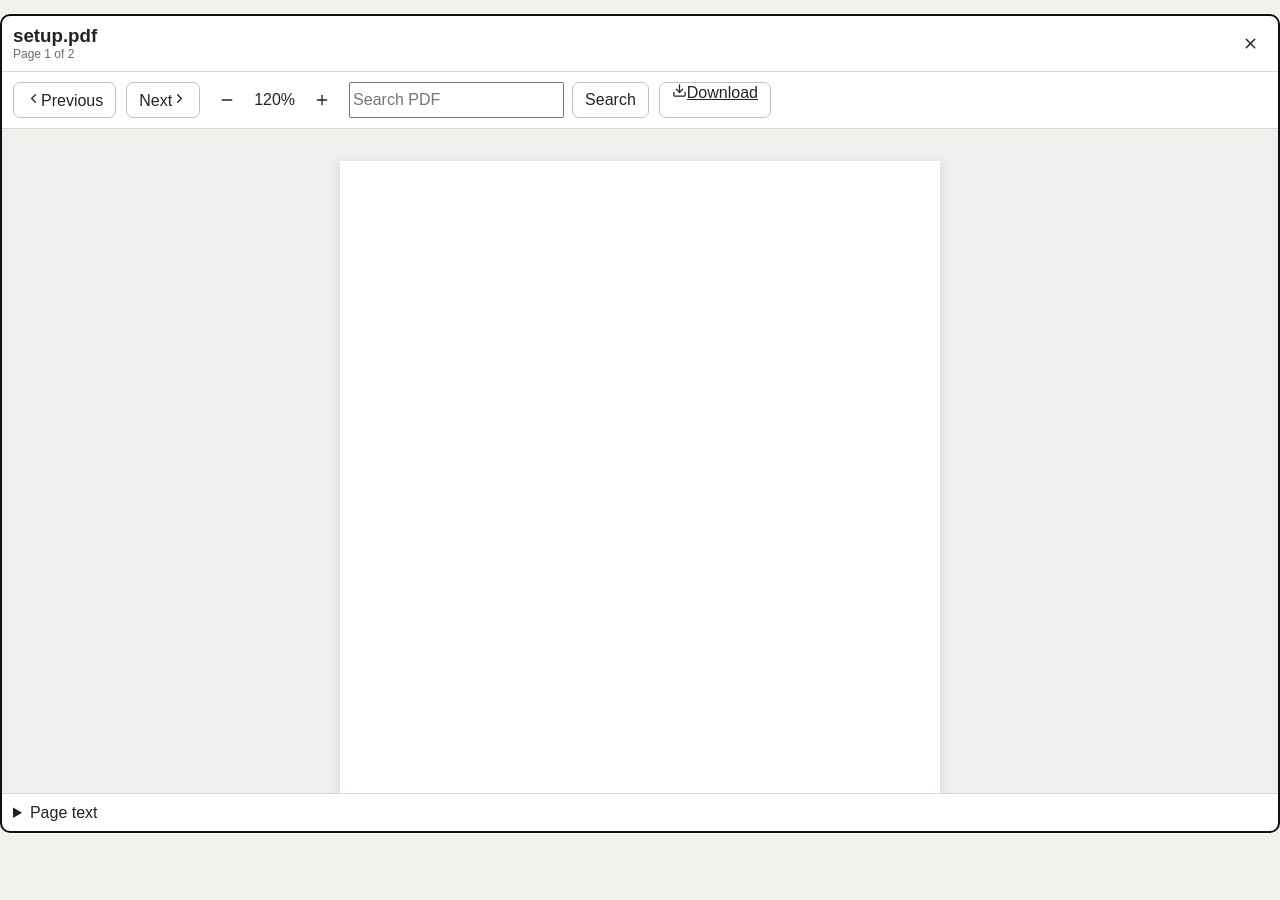
Test: loads a protected PDF as bytes and exposes navigation, text, and download controls
The image size is (1280, 900).
Expected: the text "Page 1 of 2" is shown, [13,47,74,61]
Click the button "Next" at x=163, y=100, box [126,82,200,118]
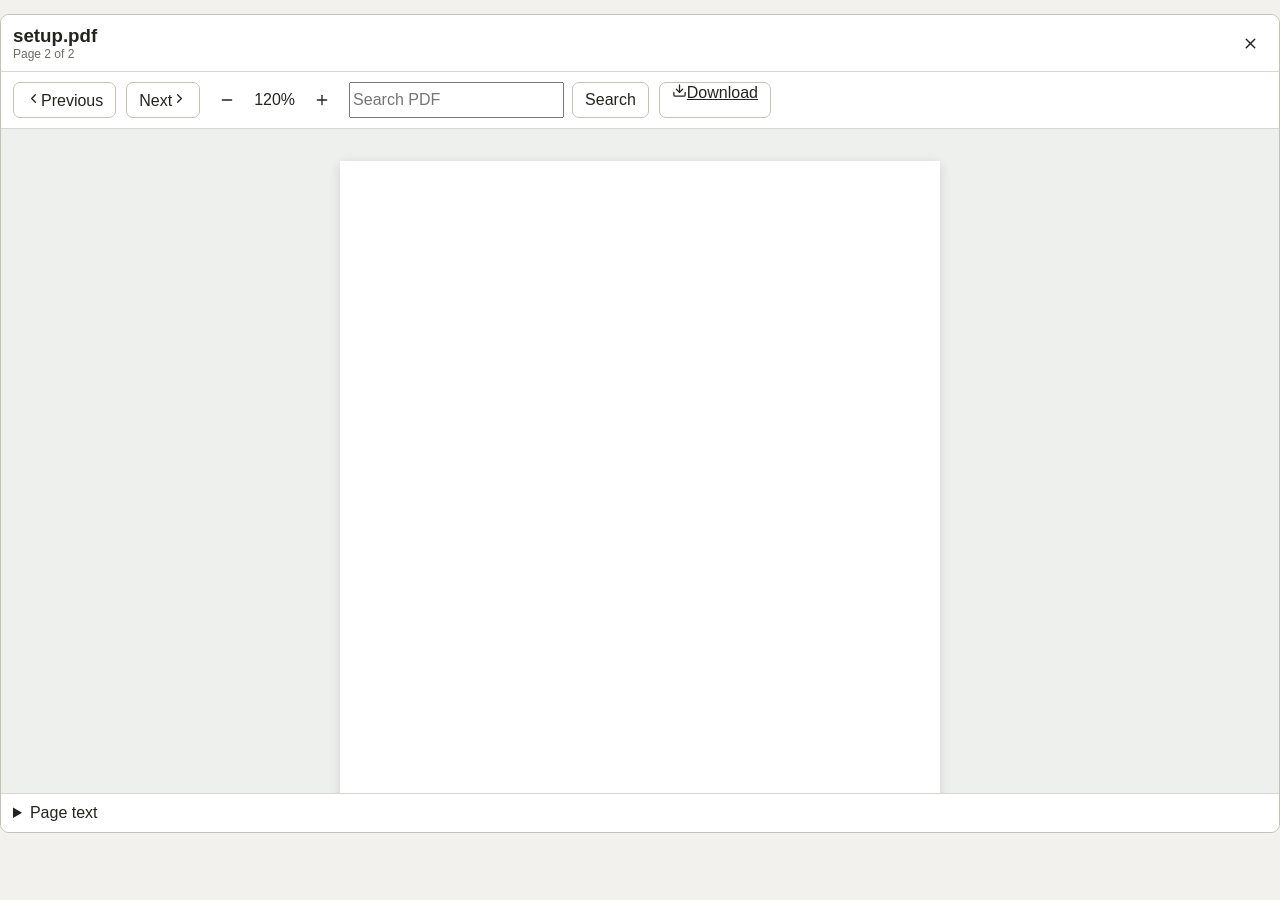
Expected: the text "Page 2 of 2" is shown, [13,47,74,61]
Click the heading "Page text" at x=64, y=812, box [30,804,98,821]
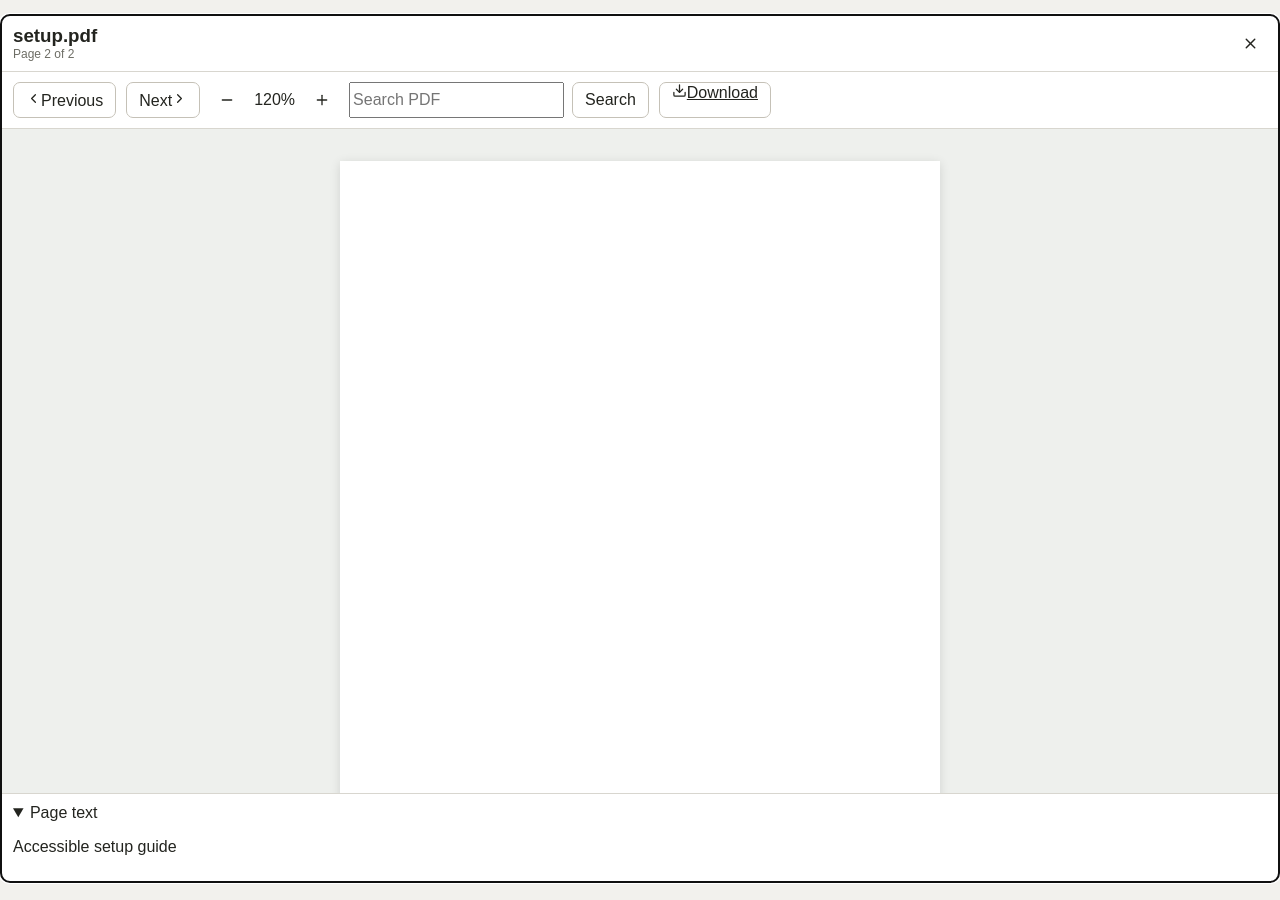
Expected: the text "Accessible setup guide" is shown, [13,838,177,855]
Type "setup" into the search field labelled "Search PDF" at x=457, y=100, box [349,82,564,118]
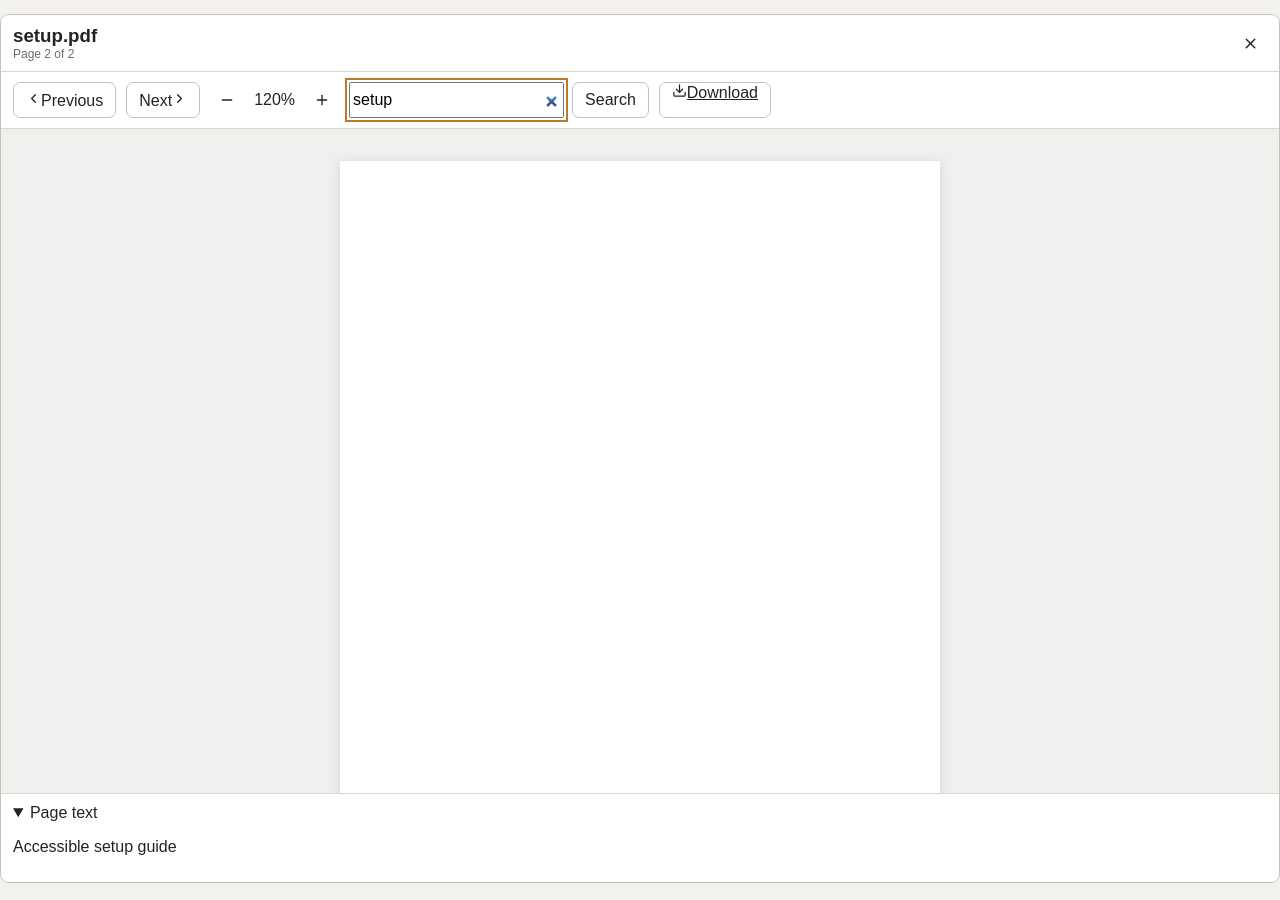
Click the button "Search" at x=610, y=100, box [572,82,649,118]
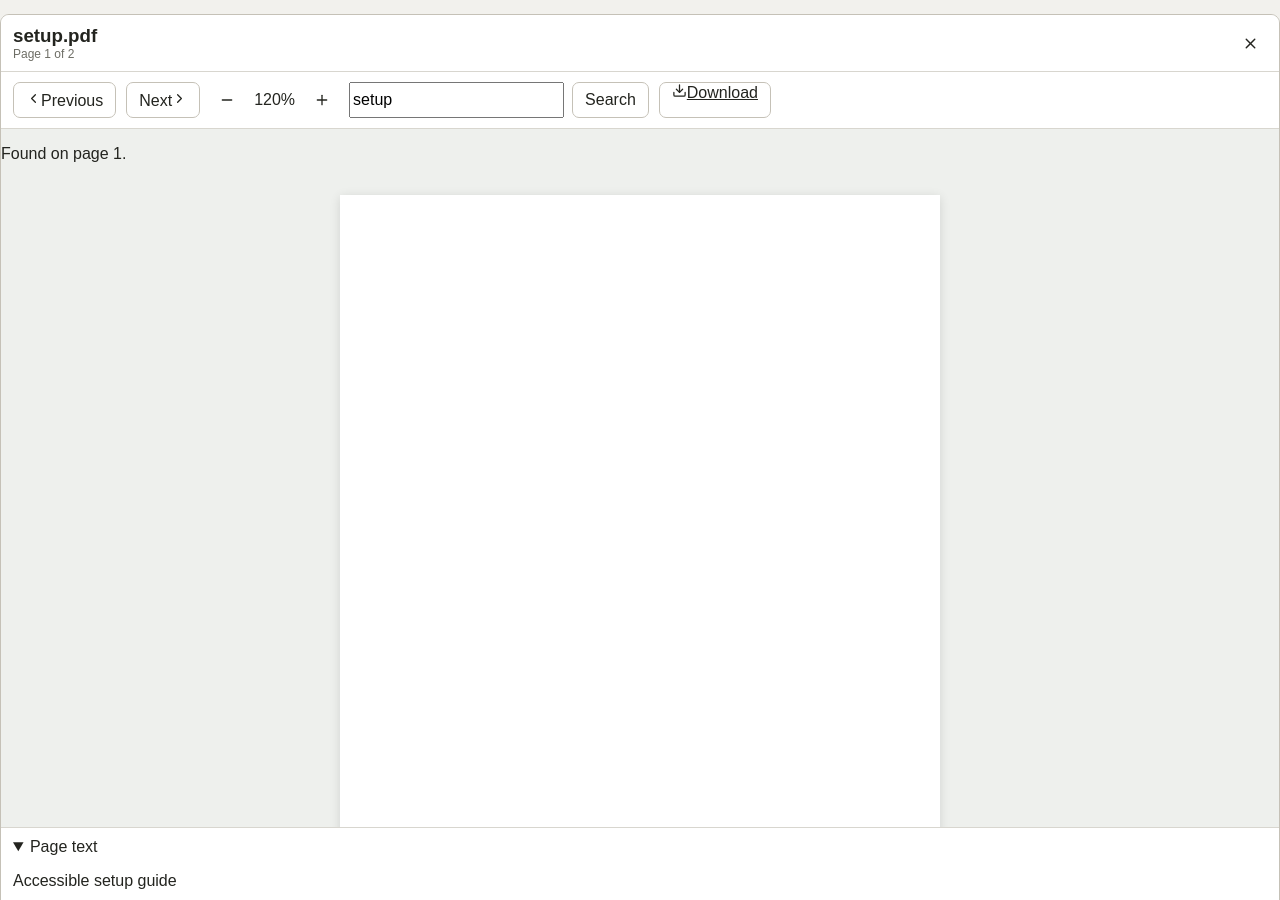
Expected: the text "Found on page 1." is shown, [1,145,126,162]
